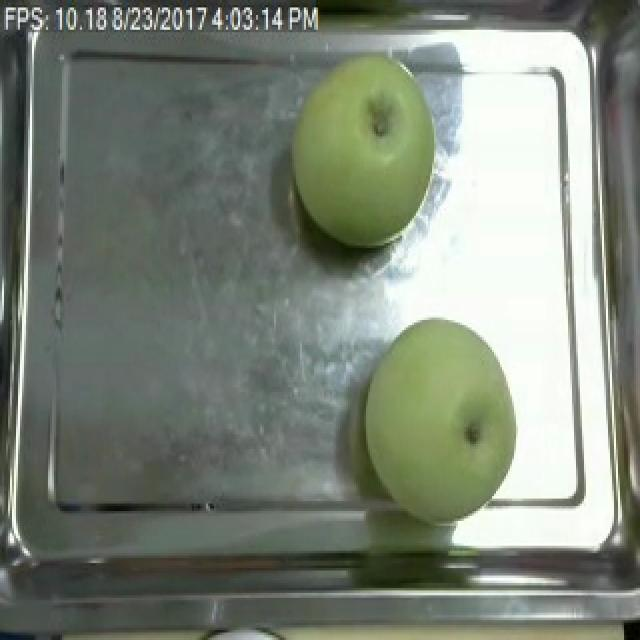50-_ripeness: (362, 301, 521, 529), (288, 45, 442, 252)
